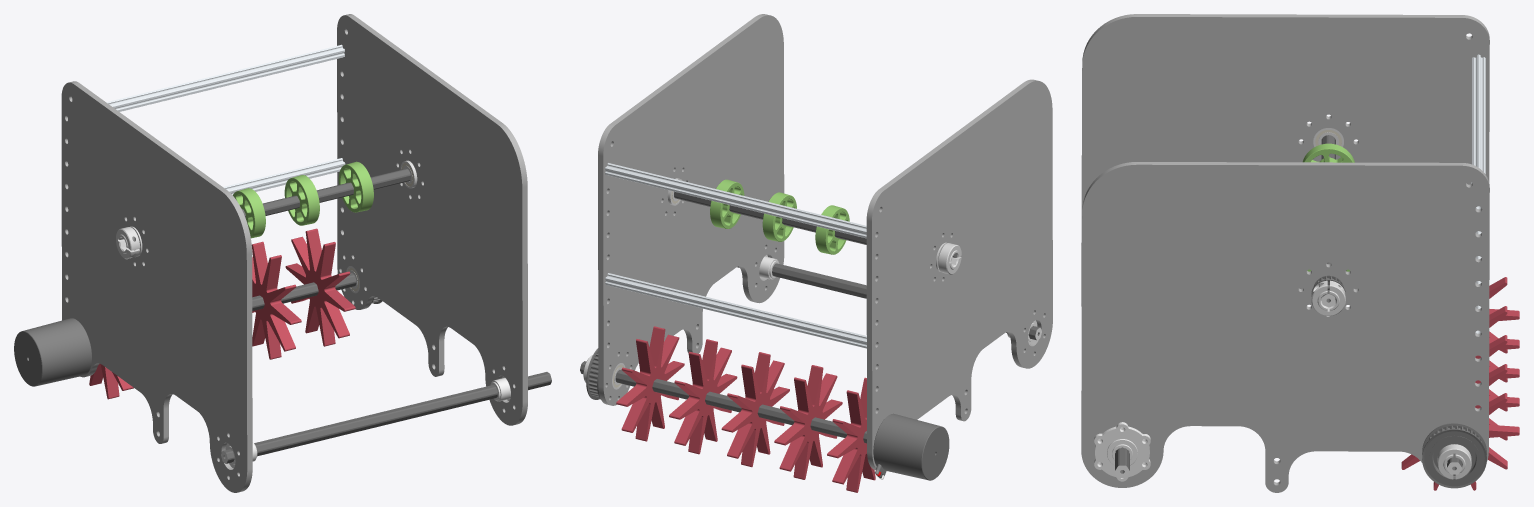
The picture shows the model from 3 angles, left to right: view 1: azimuth 30°, elevation 25°; view 2: azimuth 150°, elevation 25°; view 3: azimuth 270°, elevation 25°; orthographic projection. The views are drawn at different scales.
Visible parts, largest first — view 1: Part 1, Part 1.001, NEO Brushless Motor V1.1, 1/2" Rounded Hex (15" L, 13.75mm OD), 5" Entrapption Star (40A, 1/2" Hex Bore).003, 5" Entrapption Star (40A, 1/2" Hex Bore).002, am-2569 500 Cross Hex Tube, 2000.001, 2" Compliant Wheel (35A, 3/4" Wide, 1/2" Hex Stretch Bore).0 (×2), 1/2" Rounded Hex (14" L, 13.75mm OD), am-2569 500 Cross Hex Tube, 2000, 2" Compliant Wheel (35A, 3/4" Wide, 1/2" Hex Stretch Bore), 1/2" Rounded Hex (15" L, 13.75mm OD).001 (+2 smaller); view 2: Part 1, Part 1.001, NEO Brushless Motor V1.1, 5" Entrapption Star (40A, 1/2" Hex Bore), 5" Entrapption Star (40A, 1/2" Hex Bore).004, 5" Entrapption Star (40A, 1/2" Hex Bore).002, 5" Entrapption Star (40A, 1/2" Hex Bore).003, am-2569 500 Cross Hex Tube, 2000.001, am-2569 500 Cross Hex Tube, 2000, 5" Entrapption Star (40A, 1/2" Hex Bore).001, 1/2" Rounded Hex (15" L, 13.75mm OD).001, 2" Compliant Wheel (35A, 3/4" Wide, 1/2" Hex Stretch Bore).0 (×2) (+5 smaller); view 3: Part 1.001, Part 1, 36t Aluminum Pulley (HTD 5mm, 9mm Wide, 1/2" Hex Bore), 1/2" Hex Hub (0.875" OD, 1.875" Bolt Circle), am-2569 500 Cross Hex Tube, 2000.001, 5" Entrapption Star (40A, 1/2" Hex Bore).003, 1/2" Hex Clamping Shaft Collar (Heavy Duty).001, 1/2" Hex Clamping Shaft Collar (Heavy Duty).002, 2" Compliant Wheel (35A, 3/4" Wide, 1/2" Hex Stretch Bore).0, 5" Entrapption Star (40A, 1/2" Hex Bore).002, 5" Entrapption Star (40A, 1/2" Hex Bore), 5" Entrapption Star (40A, 1/2" Hex Bore).001 (+1 smaller).
Part boxes in pixels (x1,y1,x2,y2): Part 1: (61, 81, 252, 492); Part 1.001: (337, 14, 527, 425); NEO Brushless Motor V1.1: (14, 318, 91, 386); 1/2" Rounded Hex (15" L, 13.75mm OD): (221, 372, 551, 463); 5" Entrapption Star (40A, 1/2" Hex Bore).003: (285, 228, 355, 346); 5" Entrapption Star (40A, 1/2" Hex Bore).002: (251, 241, 301, 359); am-2569 500 Cross Hex Tube, 2000.001: (106, 44, 344, 111); 2" Compliant Wheel (35A, 3/4" Wide, 1/2" Hex Stretch Bore).0 (×2): (233, 161, 373, 238); 1/2" Rounded Hex (14" L, 13.75mm OD): (242, 168, 410, 218); am-2569 500 Cross Hex Tube, 2000: (223, 158, 345, 194); 2" Compliant Wheel (35A, 3/4" Wide, 1/2" Hex Stretch Bore): (284, 175, 319, 225); 1/2" Rounded Hex (15" L, 13.75mm OD).001: (252, 273, 356, 310); Part 1: (866, 79, 1052, 469); Part 1.001: (598, 14, 784, 405); NEO Brushless Motor V1.1: (873, 413, 949, 480); 5" Entrapption Star (40A, 1/2" Hex Bore): (721, 352, 789, 467); 5" Entrapption Star (40A, 1/2" Hex Bore).004: (774, 365, 842, 479); 5" Entrapption Star (40A, 1/2" Hex Bore).002: (669, 339, 737, 454); 5" Entrapption Star (40A, 1/2" Hex Bore).003: (616, 326, 684, 441); am-2569 500 Cross Hex Tube, 2000.001: (605, 163, 866, 238); am-2569 500 Cross Hex Tube, 2000: (605, 273, 866, 348); 5" Entrapption Star (40A, 1/2" Hex Bore).001: (827, 377, 875, 492); 1/2" Rounded Hex (15" L, 13.75mm OD).001: (580, 361, 866, 443); 2" Compliant Wheel (35A, 3/4" Wide, 1/2" Hex Stretch Bore).0 (×2): (710, 179, 849, 254); Part 1.001: (1081, 162, 1489, 492); Part 1: (1081, 14, 1489, 306); 36t Aluminum Pulley (HTD 5mm, 9mm Wide, 1/2" Hex Bore): (1422, 423, 1486, 488); 1/2" Hex Hub (0.875" OD, 1.875" Bolt Circle): (1094, 422, 1150, 481); am-2569 500 Cross Hex Tube, 2000.001: (1472, 54, 1485, 209); 5" Entrapption Star (40A, 1/2" Hex Bore).003: (1401, 393, 1519, 490); 1/2" Hex Clamping Shaft Collar (Heavy Duty).001: (1311, 280, 1345, 315); 1/2" Hex Clamping Shaft Collar (Heavy Duty).002: (1437, 444, 1471, 479); 2" Compliant Wheel (35A, 3/4" Wide, 1/2" Hex Stretch Bore).0: (1302, 143, 1354, 162); 5" Entrapption Star (40A, 1/2" Hex Bore).002: (1475, 364, 1519, 440); 5" Entrapption Star (40A, 1/2" Hex Bore): (1475, 335, 1519, 411); 5" Entrapption Star (40A, 1/2" Hex Bore).001: (1489, 277, 1519, 353).
Size of the model in its own units: 0.4345 by 0.3507 by 0.4058.
